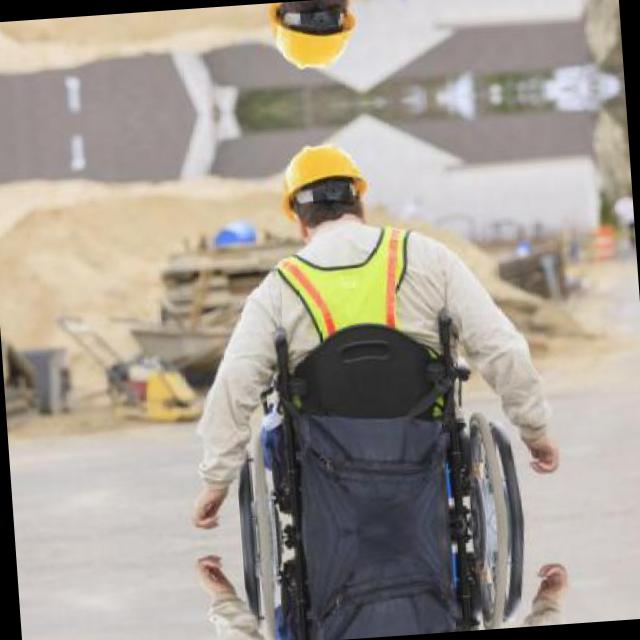helmet: (264, 124, 386, 256), (254, 0, 375, 88)
